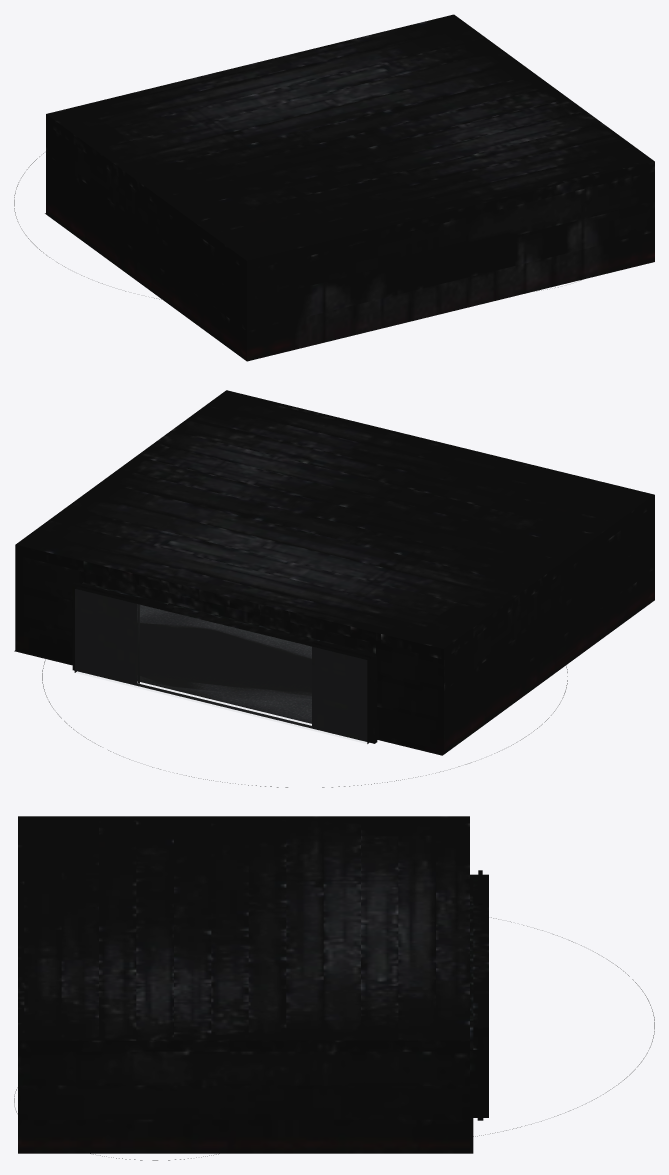
File: room.glb
The picture shows the model from 3 angles, top to bottom: view 1: azimuth 30°, elevation 25°; view 2: azimuth 150°, elevation 25°; view 3: azimuth 270°, elevation 25°; orthographic projection. The views are drawn at different scales.
Parts seen in each view (by area): view 1: room_shell; view 2: room_shell, room_floor; view 3: room_shell.
Part boxes in pixels (box(x1,y1,x2,y2)): room_shell: box(14, 14, 654, 361); room_shell: box(15, 390, 654, 787); room_floor: box(14, 604, 443, 755); room_shell: box(14, 816, 654, 1160).
Bounding box in the file's own units: 193 × 40.05 × 206.
5 materials, 4 textured.
